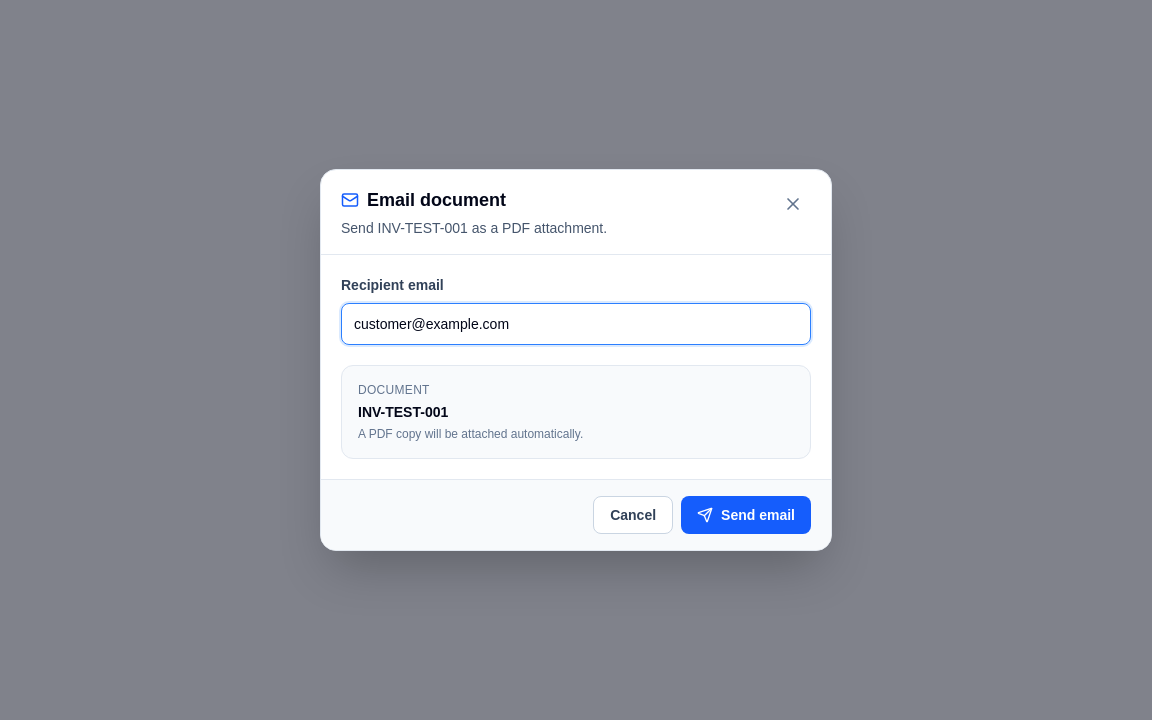
DocumentEmailDialog › shows an email delivery error
Click the button "Send email": (746, 515) [681,496,811,534]
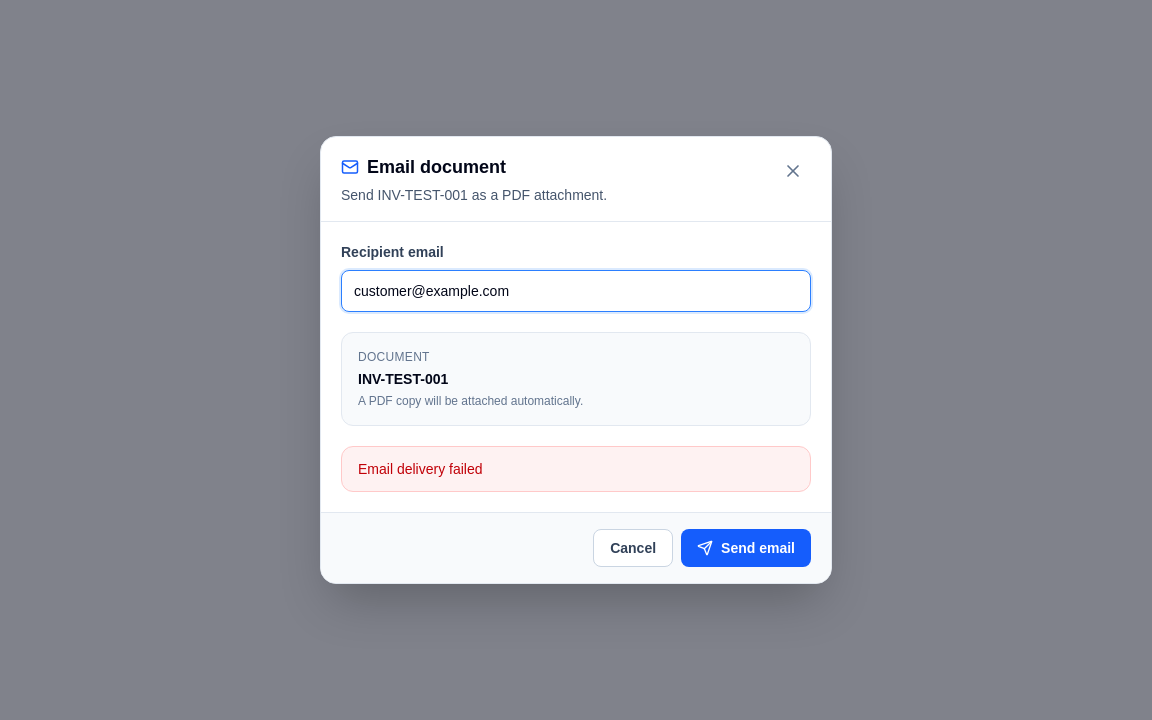
Result: the message reads "Email delivery failed" at [358,461,482,477]
